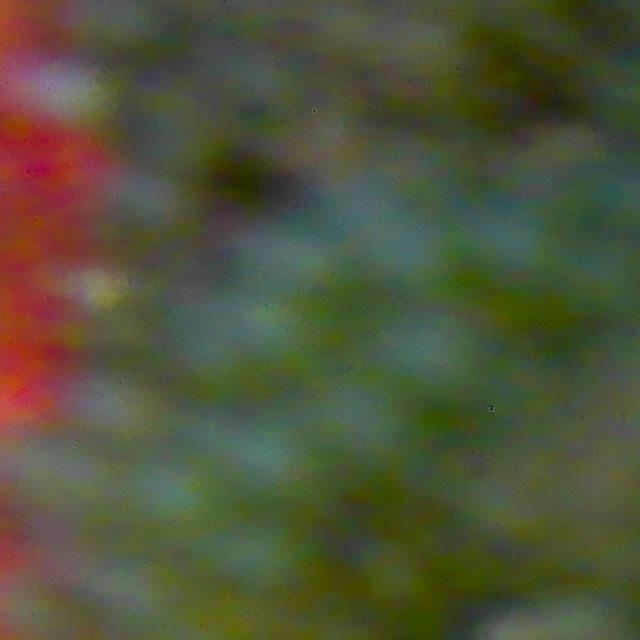SeaGrape: (226, 415, 317, 508), (221, 517, 307, 597), (138, 460, 222, 536)
